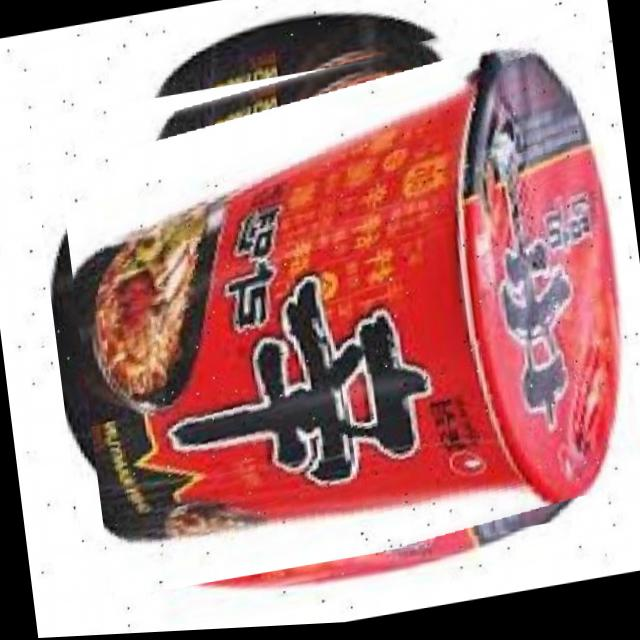Miscellaneous: (48, 6, 622, 602)
